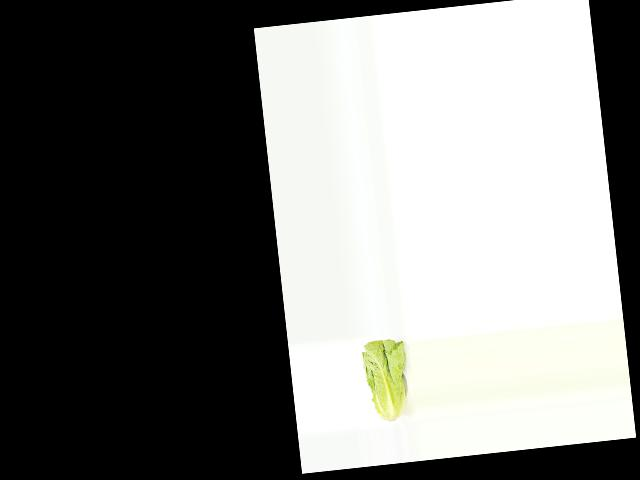lettuce: (359, 337, 413, 424)
